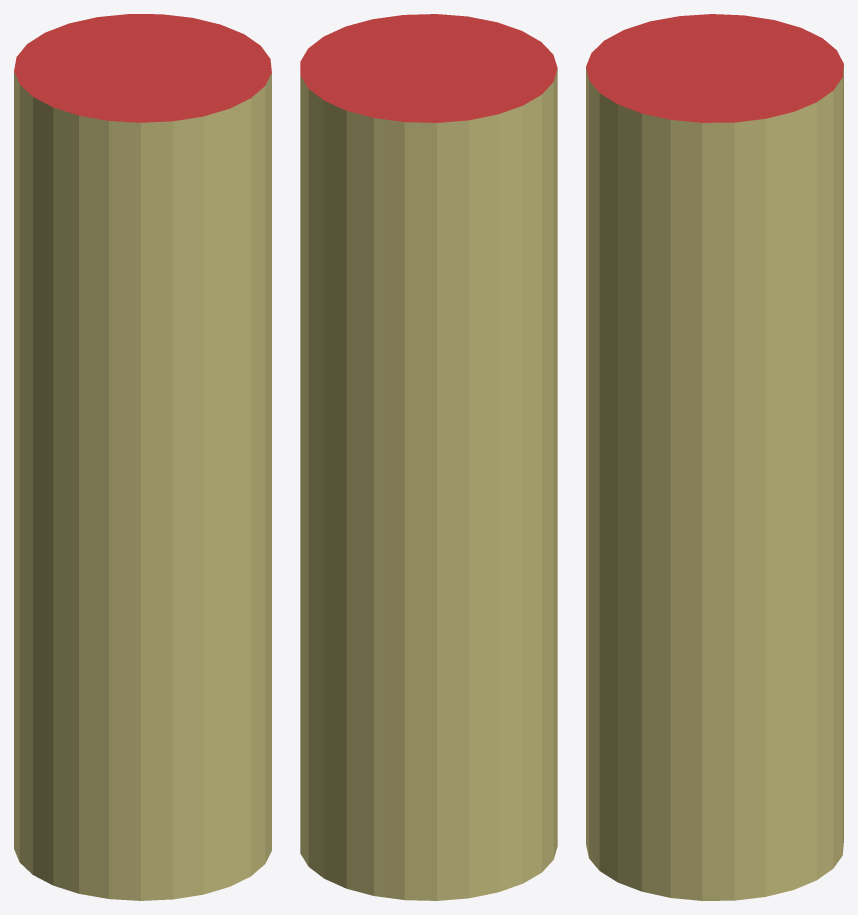
3 renders of one model, left to right at view 1: azimuth 30°, elevation 25°; view 2: azimuth 150°, elevation 25°; view 3: azimuth 270°, elevation 25°, orthographic.
Size of the model in its own units: 2.41 by 2.41 by 8.01.
